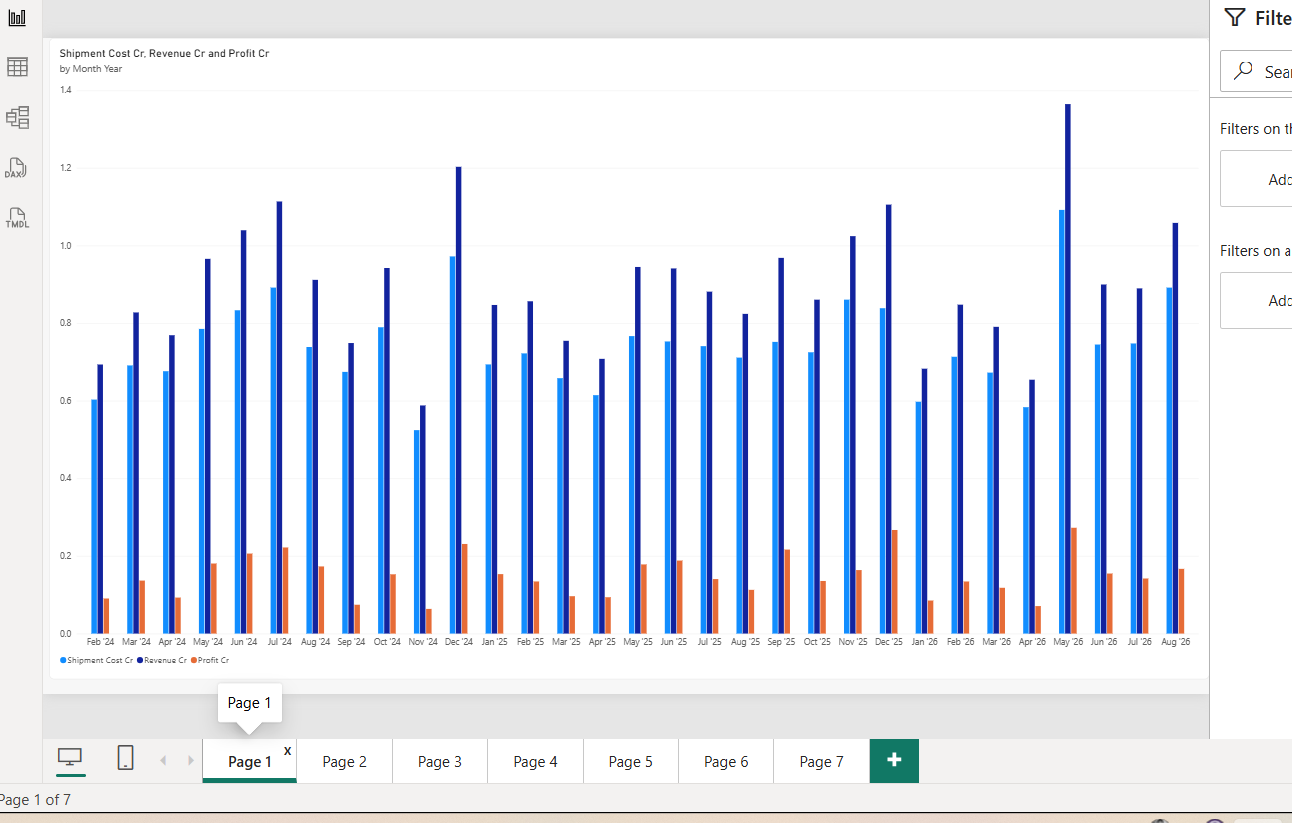

The page's visual inventory and layout, read from the dashboard file:
{"tool":"powerbi","page":{"name":"Page 1","canvas":[1920,1080],"ordinal":0},"visuals":[{"type":"clusteredColumnChart","fields":{"Category":["Dim_Date.Month Year"],"Y":["Fact_Shipments.Shipment Cost Cr","Fact_Shipments.Revenue Cr","Fact_Shipments.Profit Cr"]},"box":[10.3,0,1910.1,1055.9],"z":0}]}

Visuals, with their boxes on the page's 1920x1080 design canvas (x1, y1, x2, y2). These are canvas units, not pixel positions in the 1292x823 screenshot, which may show the page scaled, cropped or inside an application window:
clusteredColumnChart - Dim_Date.Month Year x Fact_Shipments.Shipment Cost Cr: 10:0:1920:1056
